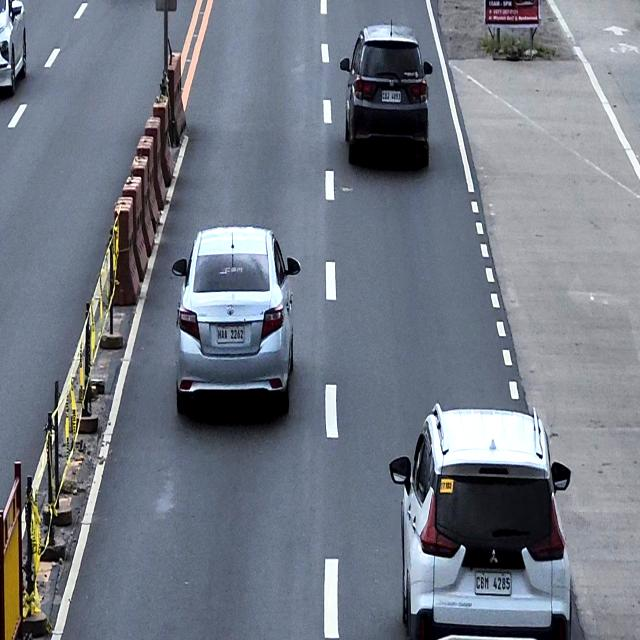Car: (390, 398, 572, 640), (170, 224, 302, 415), (339, 21, 433, 175), (0, 0, 29, 102)
License-Plate: (473, 571, 513, 599), (214, 325, 246, 346), (381, 89, 402, 104)
